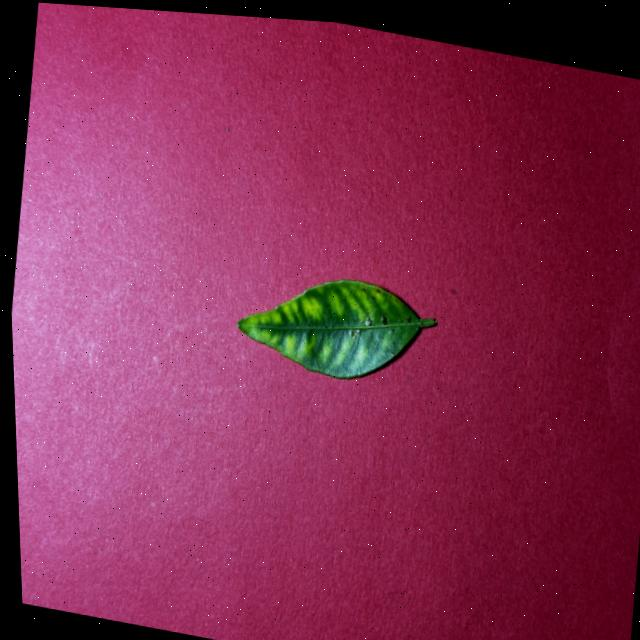greening: (236, 280, 434, 378)
